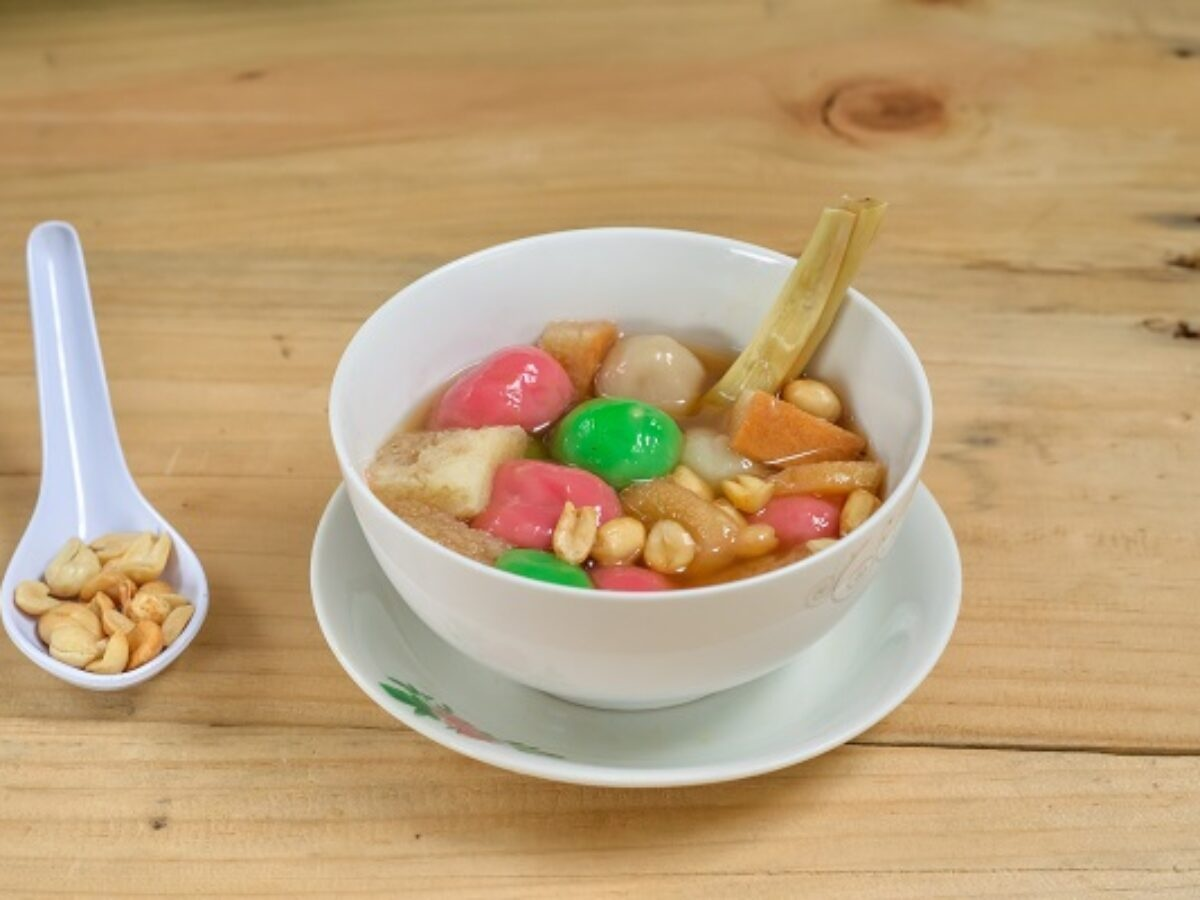ronde: (378, 318, 889, 593)
